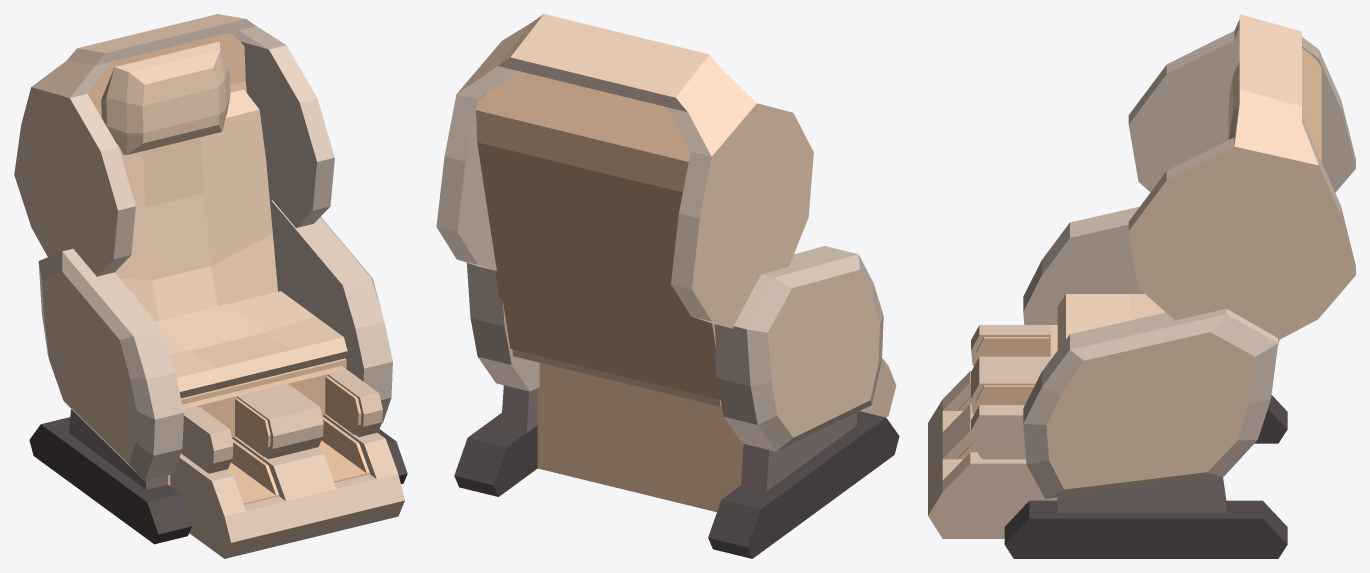
The model's file is massage_chair.fbx.
The picture shows the model from 3 angles, left to right: view 1: azimuth 30°, elevation 25°; view 2: azimuth 150°, elevation 25°; view 3: azimuth 270°, elevation 25°; orthographic projection. The views are drawn at different scales.
Parts seen in each view (by area): view 1: massage_chair; view 2: massage_chair; view 3: massage_chair.
Boxes of the visible parts, x1,y1,x2,y2 form: massage_chair: (14, 14, 407, 558); massage_chair: (436, 14, 899, 558); massage_chair: (928, 14, 1355, 558).
Bounding box in the file's own units: 0.8584 × 1.31 × 1.15.
1 material, 1 textured.
